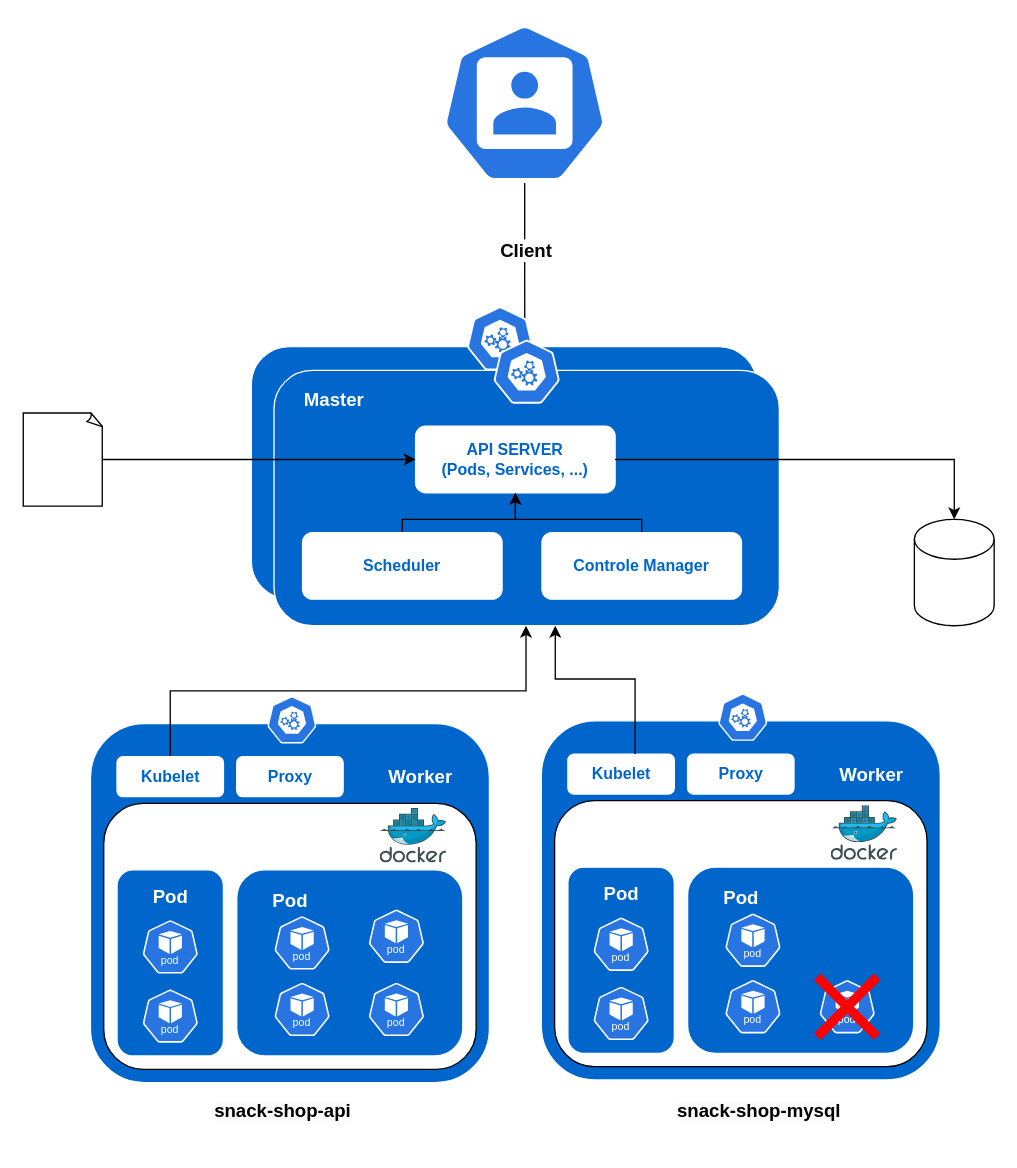
Some shapes in this 1017 by 1168 pixel diagram are drawn without their labels. Each missing label, with the box of its shape:
etcd: (913, 518, 994, 626)
YAML: (22, 412, 103, 506)
